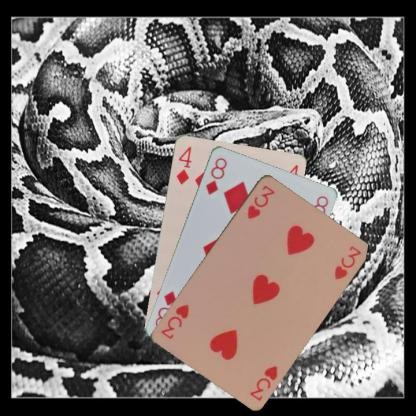3h: (247, 363, 279, 401), (245, 182, 276, 220)
4d: (173, 144, 193, 185)
8d: (203, 154, 228, 196)
